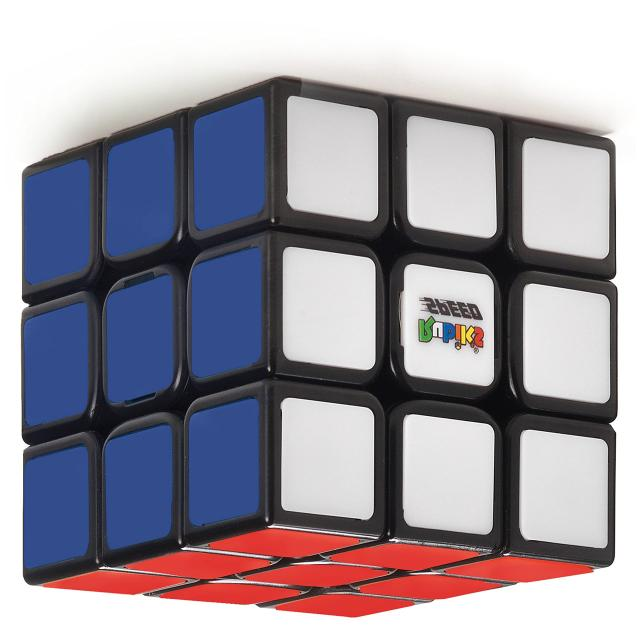cube: (22, 82, 612, 618)
